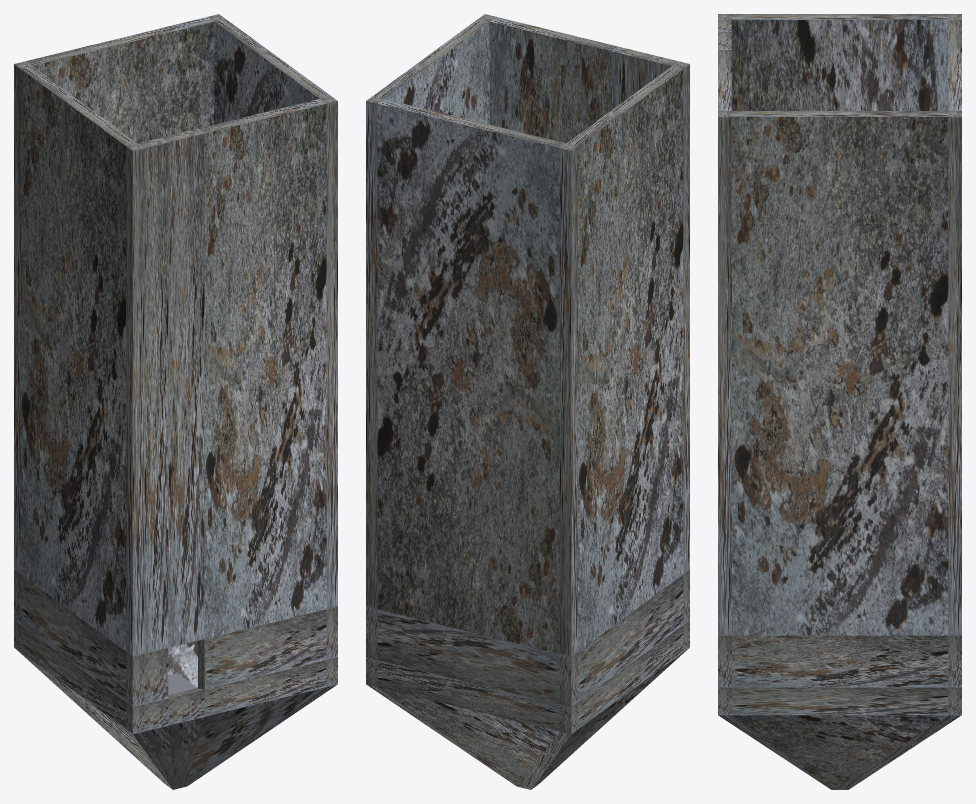
The model's file is boiler_full.dae.
3 renders of one model, left to right at view 1: azimuth 30°, elevation 25°; view 2: azimuth 150°, elevation 25°; view 3: azimuth 270°, elevation 25°, orthographic. The views are drawn at different scales.
Visible parts, largest first — view 1: Cube; view 2: Cube; view 3: Cube.
Part boxes in pixels (x1,y1,x2,y2): Cube: (14, 14, 337, 789); Cube: (366, 14, 689, 789); Cube: (718, 14, 961, 789).
Size of the model in its own units: 17.99 by 18.04 by 58.89.
Materials: 1 (1 with a texture image).
